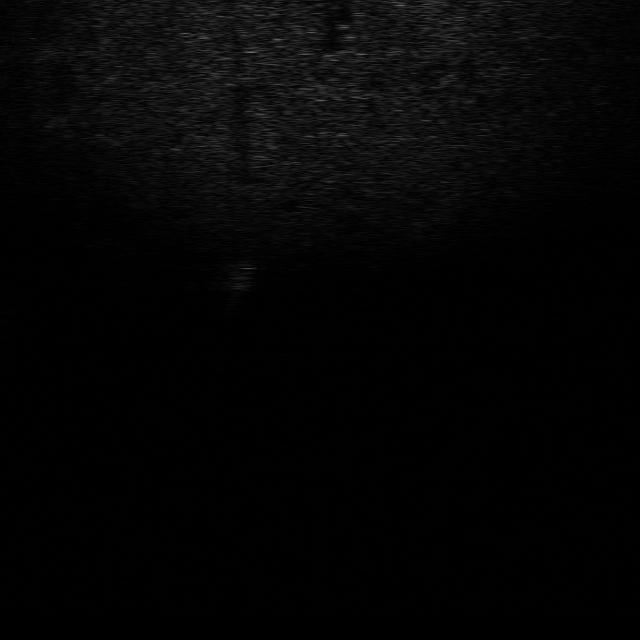human body: (212, 252, 256, 319)
